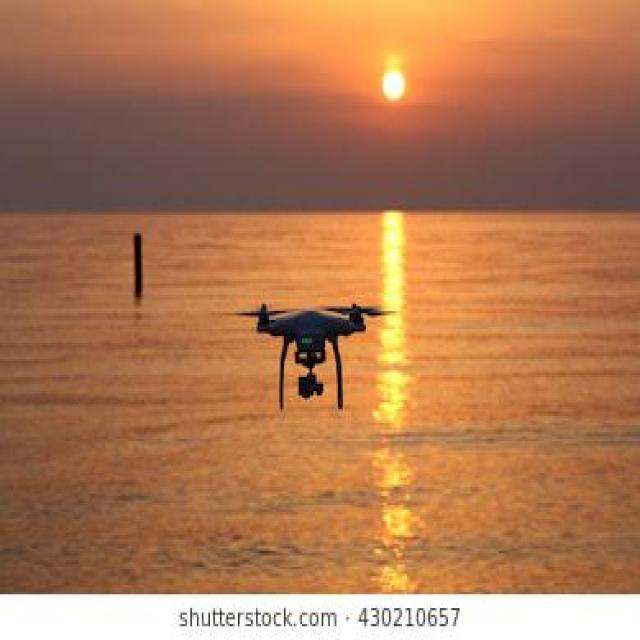drone: (0, 313, 640, 640)
